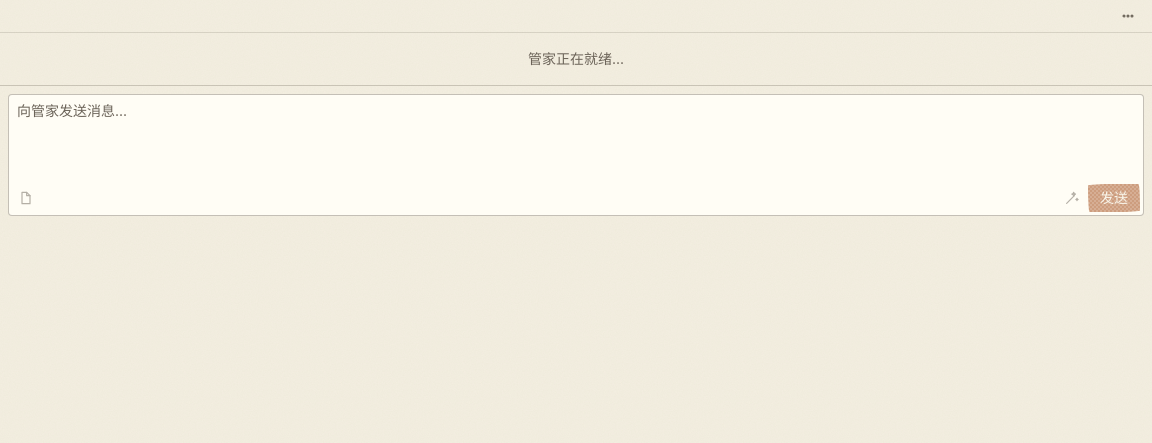
Test case: StewardChat v2 — config proposal card › cancel keeps the config and records the cancelled state
Type "把温度调到 0.7" into the text box with placeholder "向管家发送消息..." at (576,155), box left=8, top=94, right=1144, bottom=216
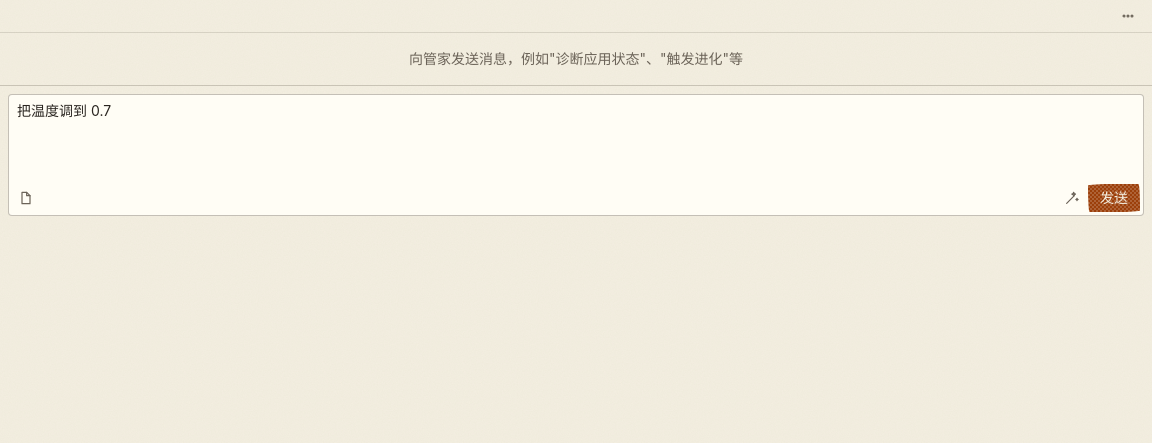
Click the button "发送" at (1114,198), box left=1088, top=184, right=1140, bottom=212
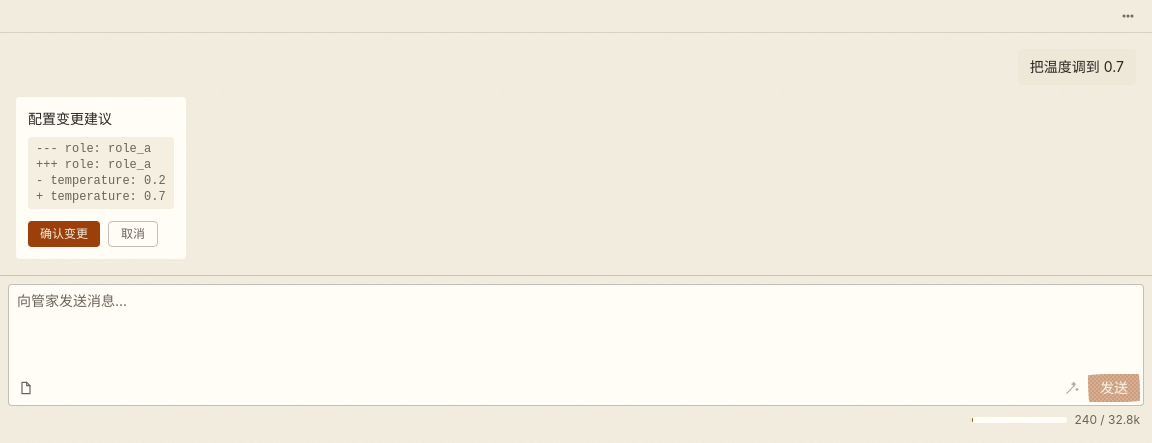
Now the text "配置变更建议" is shown, box left=28, top=110, right=112, bottom=127
Now the text "temperature: 0.7" is shown, box left=36, top=142, right=166, bottom=204
Click the button "取消" at (133,234), box left=108, top=221, right=158, bottom=247
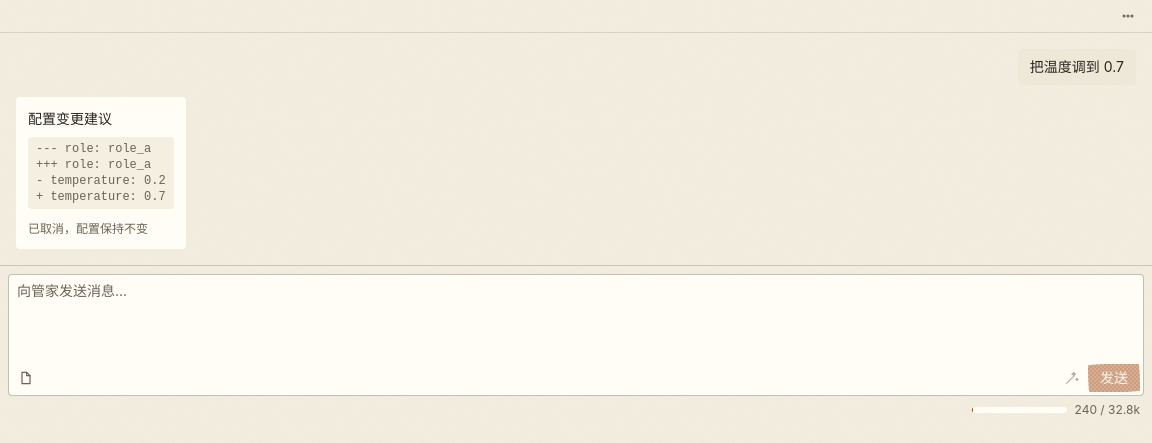
Now the text "已取消，配置保持不变" is shown, box left=28, top=221, right=148, bottom=236
